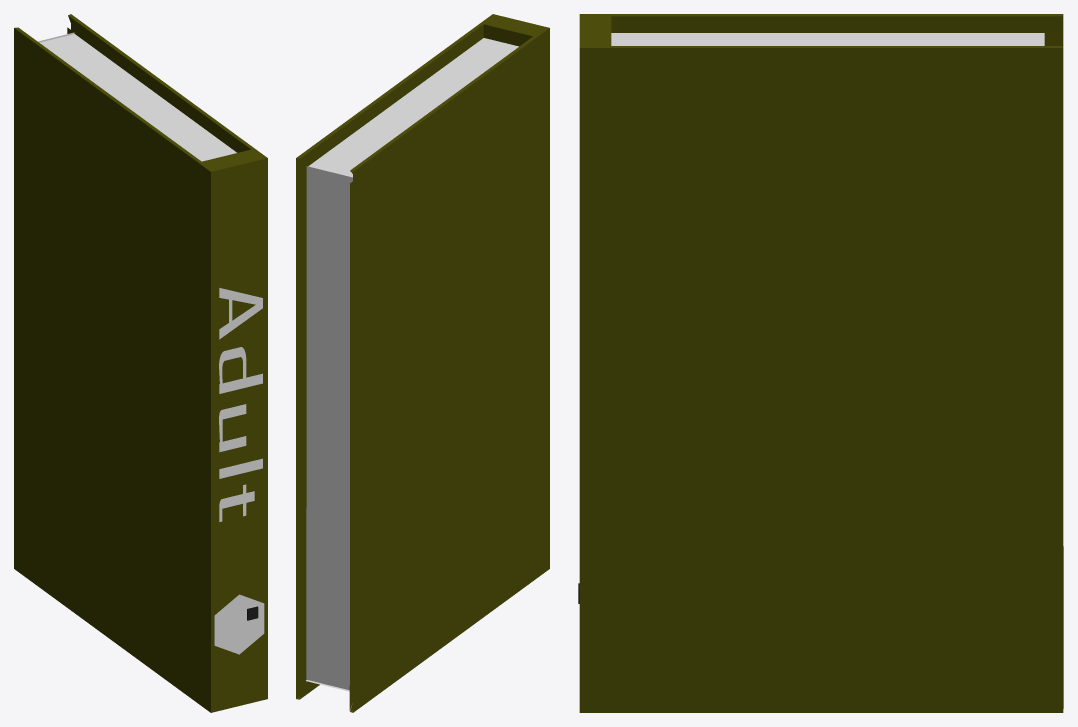
File: Book_Adult.fbx
3 renders of one model, left to right at view 1: azimuth 30°, elevation 25°; view 2: azimuth 150°, elevation 25°; view 3: azimuth 270°, elevation 25°, orthographic. The views are drawn at different scales.
Visible parts, largest first — view 1: Book, Text, Cylinder; view 2: Book; view 3: Book.
Part boxes in pixels (x1=…): Book: x1=14, y1=14, x2=267, y2=712; Text: x1=219, y1=288, x2=262, y2=521; Cylinder: x1=214, y1=594, x2=264, y2=654; Book: x1=296, y1=14, x2=549, y2=712; Book: x1=579, y1=14, x2=1063, y2=712.
Size of the model in its own units: 6.67 by 60.59 by 40.09.
